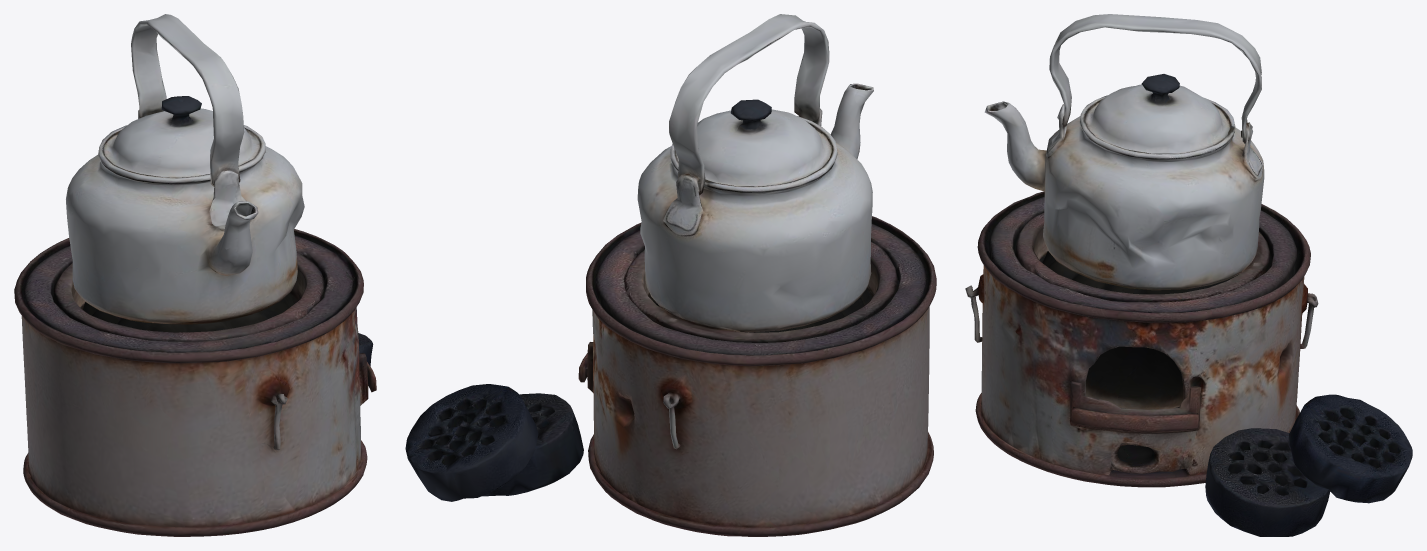
The model's file is stove.glb.
3 views of the same model, side by side, from view 1: azimuth 30°, elevation 25°; view 2: azimuth 150°, elevation 25°; view 3: azimuth 270°, elevation 25° (orthographic). The views are drawn at different scales.
Parts seen in each view (by area): view 1: tripo_node_fa697e15-0465-48a0-82b6-4fe48fff0e10; view 2: tripo_node_fa697e15-0465-48a0-82b6-4fe48fff0e10; view 3: tripo_node_fa697e15-0465-48a0-82b6-4fe48fff0e10.
Boxes of the visible parts, x1,y1,x2,y2 form: tripo_node_fa697e15-0465-48a0-82b6-4fe48fff0e10: [14, 14, 376, 536]; tripo_node_fa697e15-0465-48a0-82b6-4fe48fff0e10: [405, 14, 936, 536]; tripo_node_fa697e15-0465-48a0-82b6-4fe48fff0e10: [965, 14, 1412, 536].
Bounding box in the file's own units: 0.4683 × 0.5 × 0.4891.
1 material, 1 textured.
